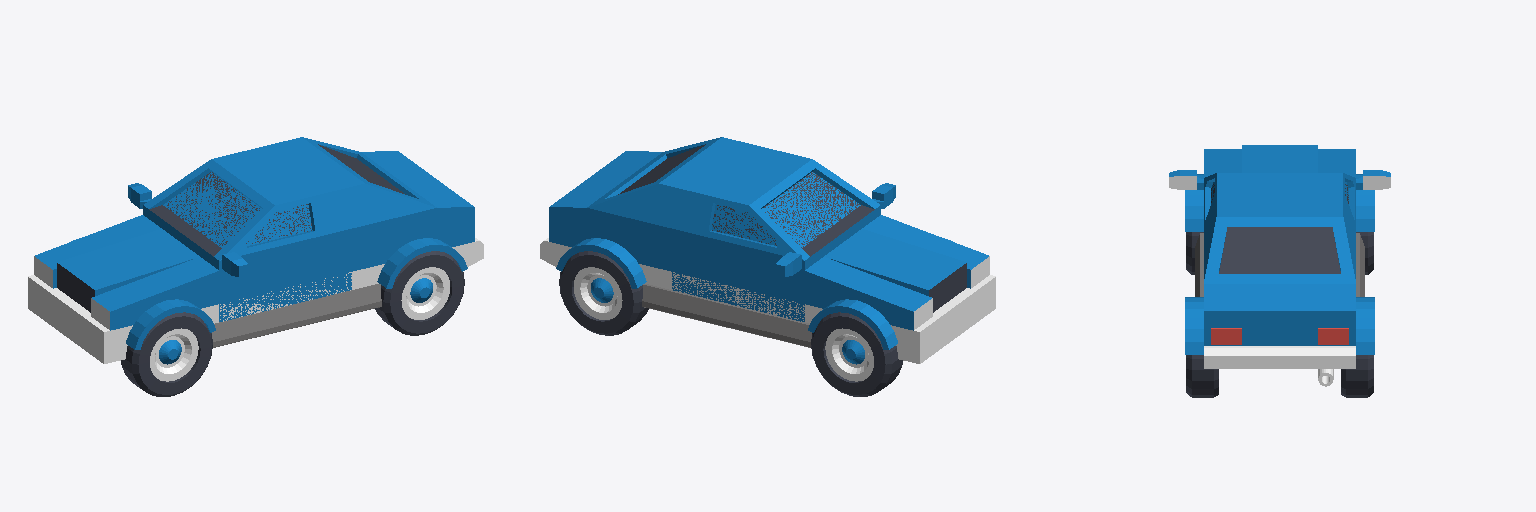
Rendered from car1.obj.
The picture shows the model from 3 angles: view 1: azimuth 30°, elevation 25°; view 2: azimuth 150°, elevation 25°; view 3: azimuth 270°, elevation 25°; orthographic projection.
Bounding box in the file's own units: 2.87 × 1.11 × 1.45.